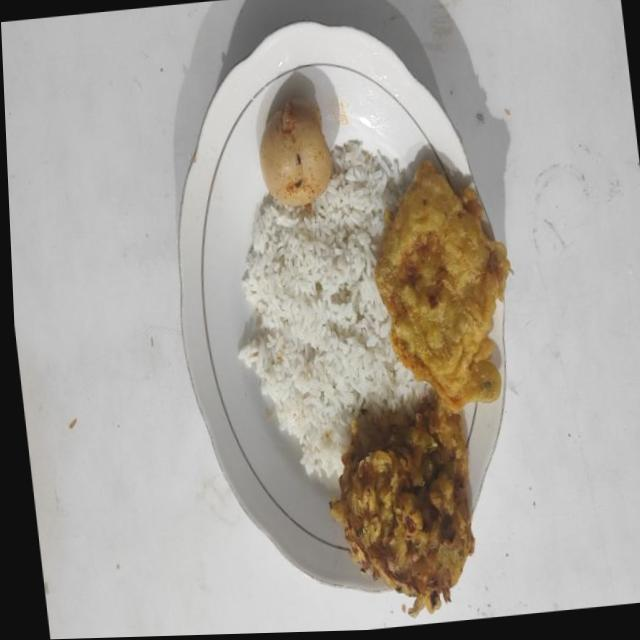nasi_putih: (238, 140, 430, 477)
